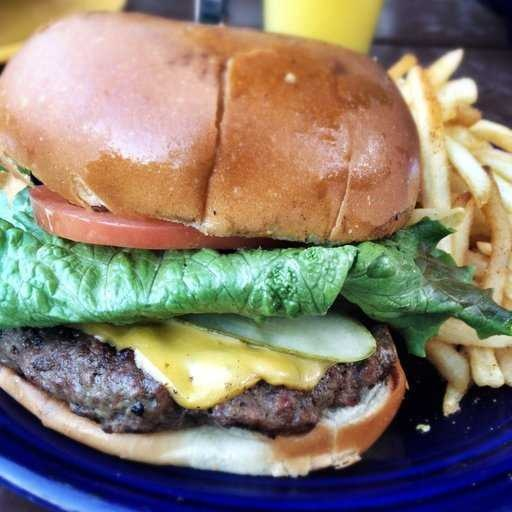hamburger: (1, 26, 450, 457)
